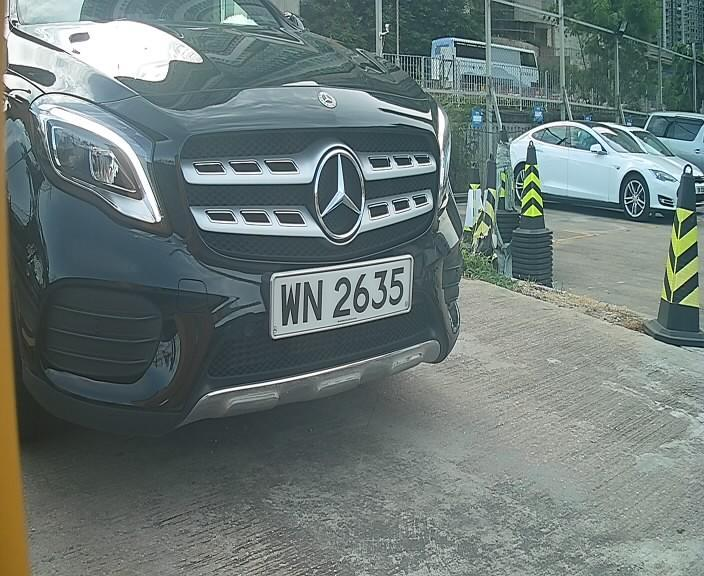privatecar: (2, 2, 483, 461)
